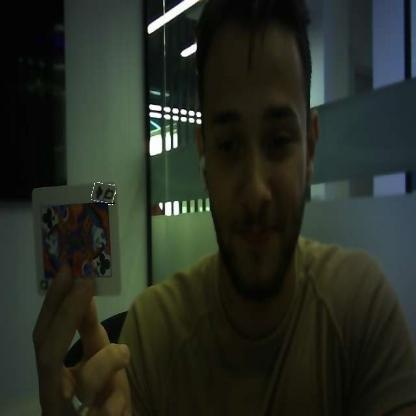QC: (92, 184, 115, 204)
